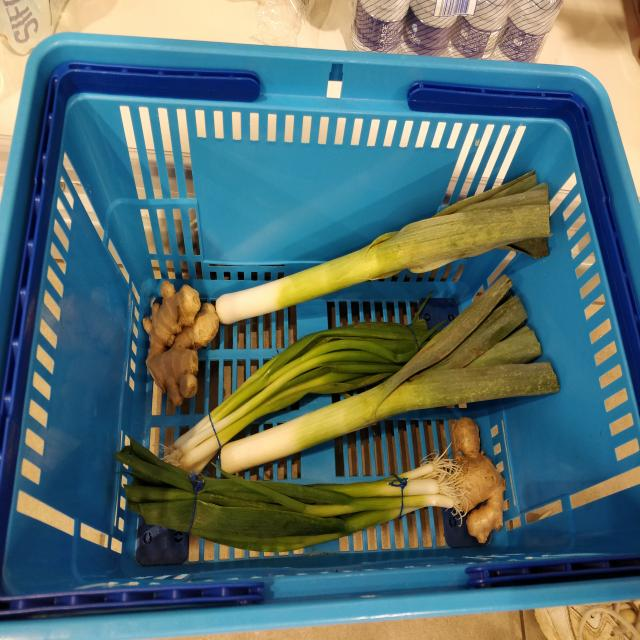Ginger: (142, 281, 219, 407)
Leek: (218, 276, 560, 473), (214, 172, 550, 326)
Spring Onion: (163, 319, 435, 475), (114, 442, 459, 547)
